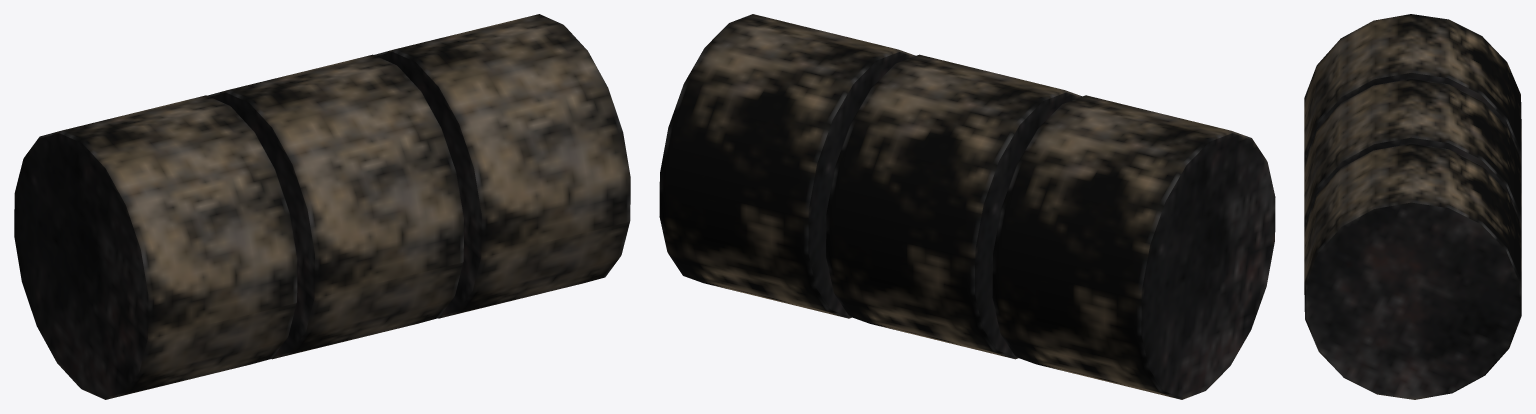
The model's file is rock.fbx_Collection.fbx.
The picture shows the model from 3 angles, left to right: view 1: azimuth 30°, elevation 25°; view 2: azimuth 150°, elevation 25°; view 3: azimuth 270°, elevation 25°; orthographic projection. The views are drawn at different scales.
Visible parts, largest first — view 1: Lock_LP.003, Lock_LP.01, Lock_LP.002; view 2: Lock_LP.003, Lock_LP.01, Lock_LP.002; view 3: Lock_LP.01, Lock_LP.003, Lock_LP.002.
Boxes of the visible parts, x1,y1,x2,y2 form: Lock_LP.003: (14, 95, 297, 399); Lock_LP.01: (374, 14, 630, 318); Lock_LP.002: (207, 54, 463, 359); Lock_LP.003: (992, 95, 1275, 399); Lock_LP.01: (659, 14, 915, 318); Lock_LP.002: (826, 54, 1082, 359); Lock_LP.01: (1304, 144, 1521, 399); Lock_LP.003: (1304, 14, 1521, 183); Lock_LP.002: (1304, 79, 1521, 248).
Bounding box in the file's own units: 2.03 × 1 × 0.9908.
